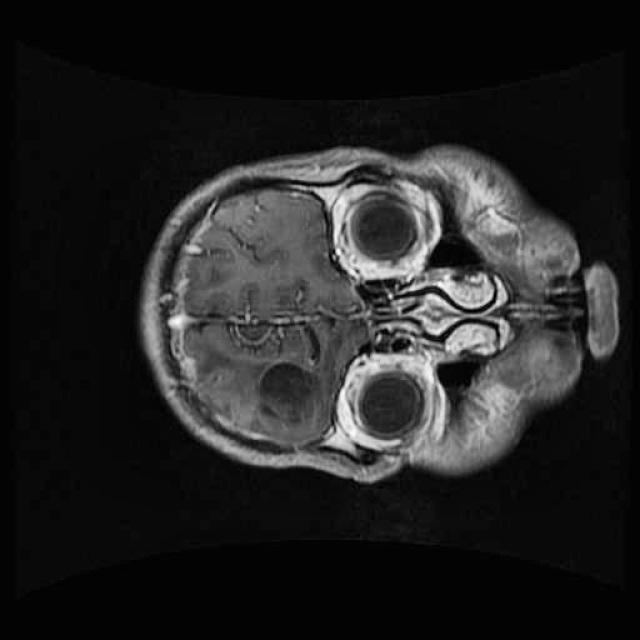Non-Tumor: (248, 348, 339, 446)
